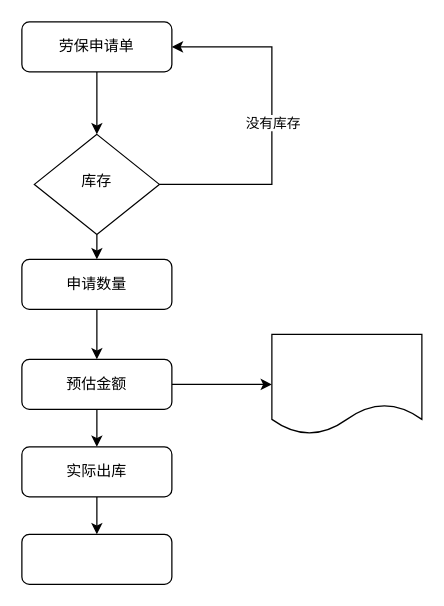
Some shapes in this 444 by 606 pixel diagram are drawn without their labels. Each missing label, with the centre of its shape:
劳保管理: (96,558)
根据分类和累计领用数量，计算预估金额: (346,383)
